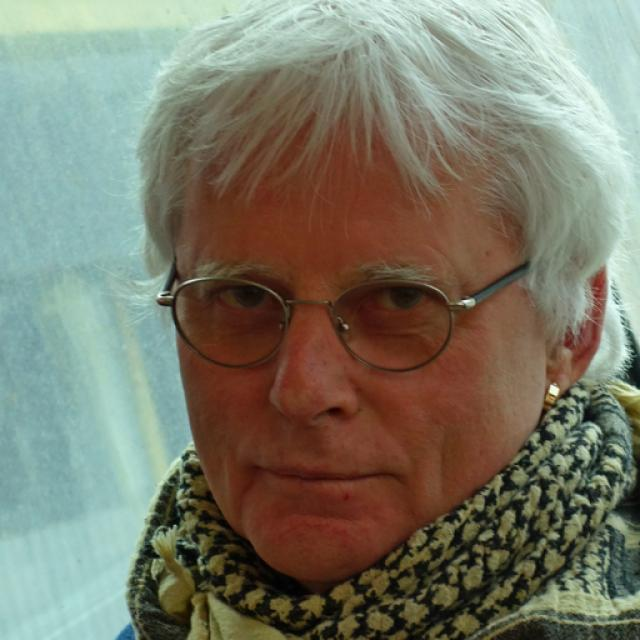neutral: (175, 116, 545, 585)
